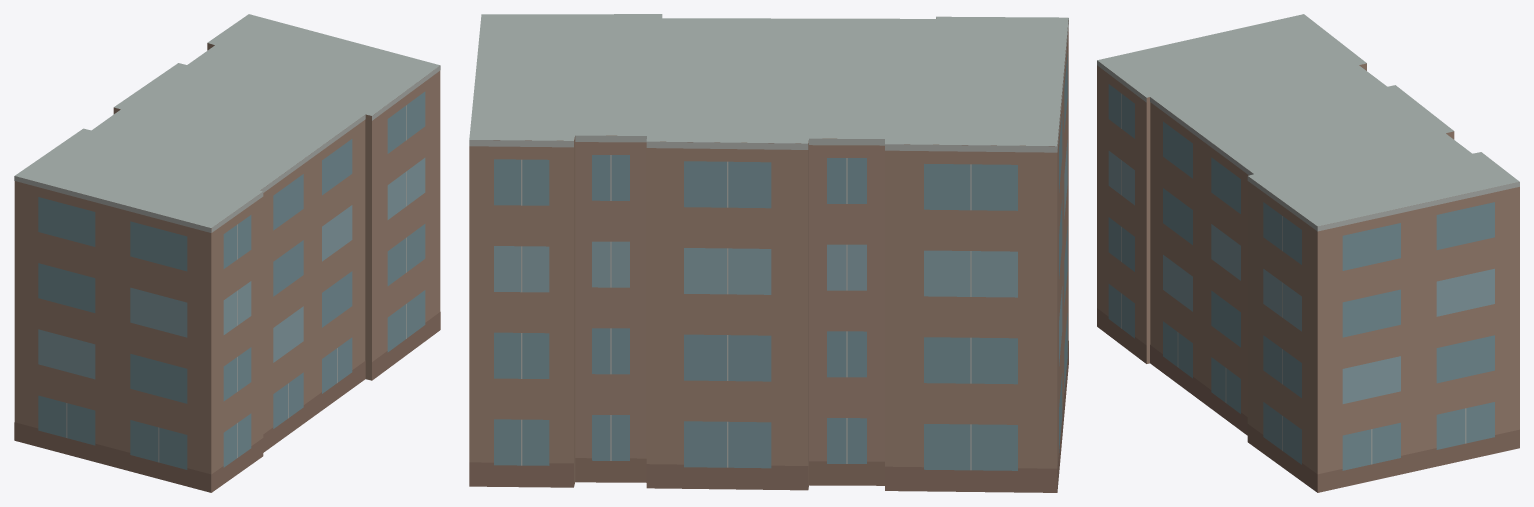
The model's file is survey-upis-32942281.glb.
3 renders of one model, left to right at view 1: azimuth 30°, elevation 25°; view 2: azimuth 150°, elevation 25°; view 3: azimuth 270°, elevation 25°, orthographic. The views are drawn at different scales.
Visible parts, largest first — view 1: survey-upis-32942281.tmp; view 2: survey-upis-32942281.tmp; view 3: survey-upis-32942281.tmp.
Boxes of the visible parts, <box> form: survey-upis-32942281.tmp: <box>14,14,440,492</box>; survey-upis-32942281.tmp: <box>469,14,1068,492</box>; survey-upis-32942281.tmp: <box>1097,14,1519,492</box>.
Bounding box in the file's own units: 22.32 × 13.04 × 18.77.
